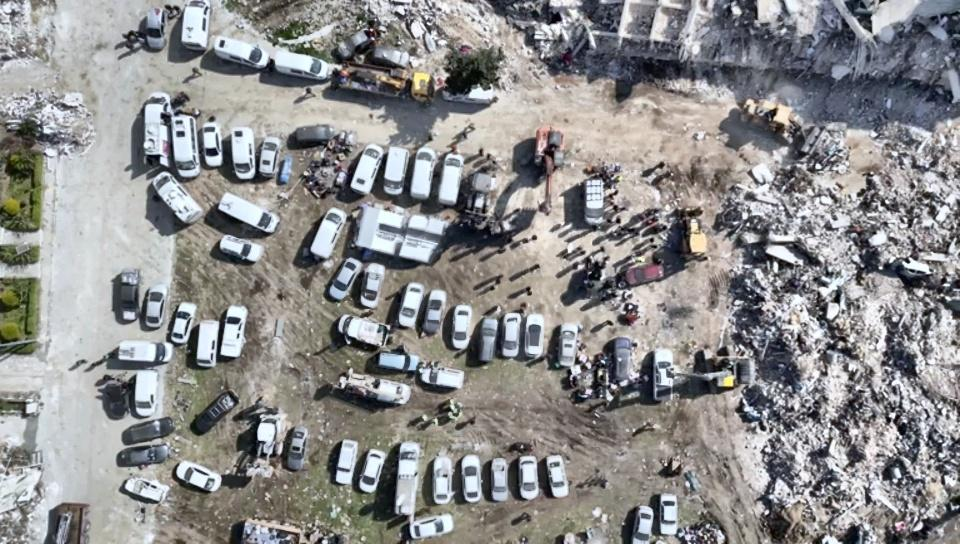kapali: (659, 91, 959, 183)
